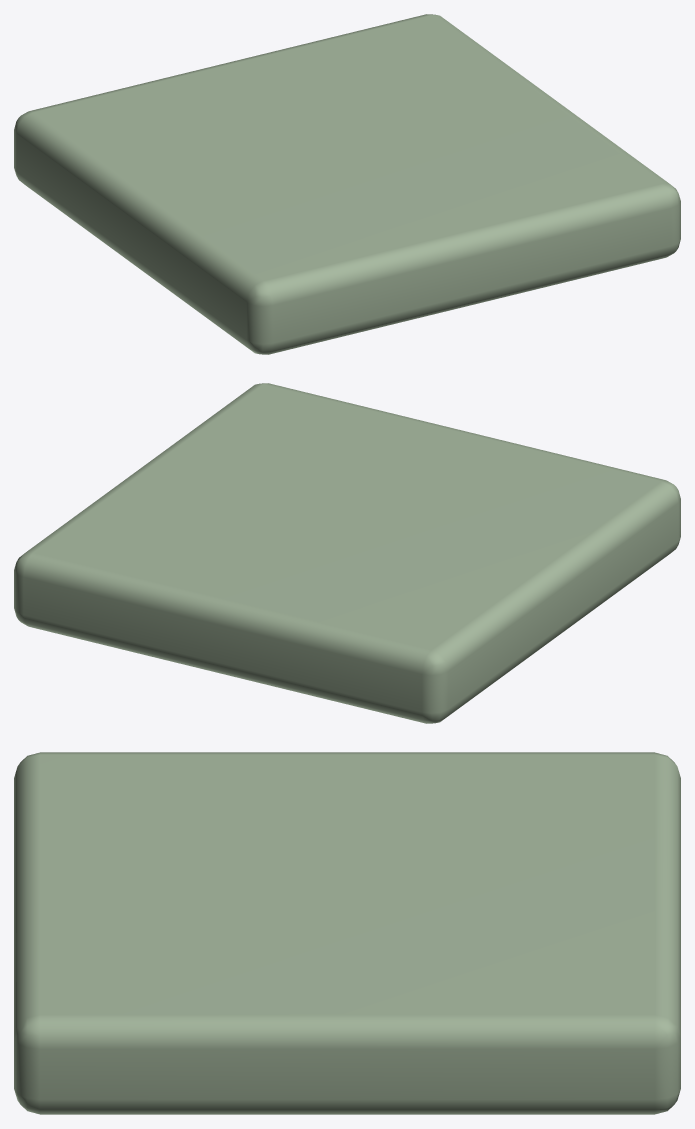
Rendered from floor_garden.glb.
3 renders of one model, top to bottom at view 1: azimuth 30°, elevation 25°; view 2: azimuth 150°, elevation 25°; view 3: azimuth 270°, elevation 25°, orthographic. The views are drawn at different scales.
Parts seen in each view (by area): view 1: Body_grass; view 2: Body_grass; view 3: Body_grass.
Boxes of the visible parts, <box> form: Body_grass: <box>14,14,680,354</box>; Body_grass: <box>14,383,680,723</box>; Body_grass: <box>14,752,680,1114</box>.
Size of the model in its own units: 1.8 by 0.29 by 1.8.
